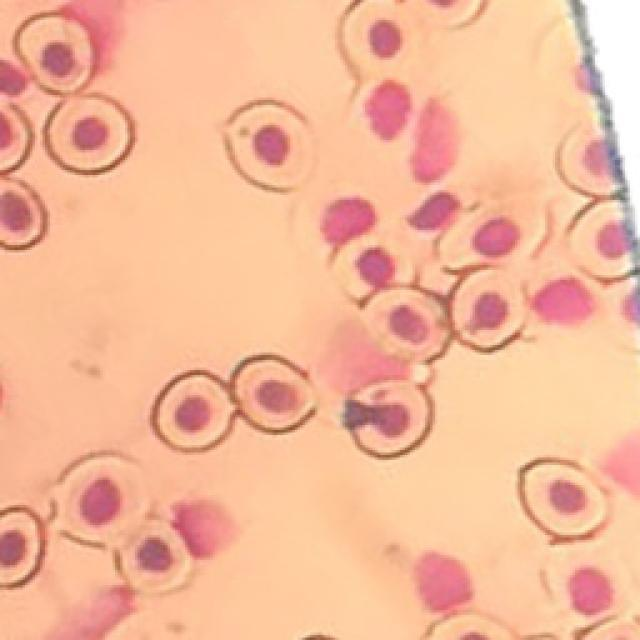RBC: (52, 452, 149, 546), (224, 100, 314, 191), (439, 201, 548, 271), (520, 459, 608, 539), (342, 380, 432, 457), (45, 95, 132, 174), (152, 371, 236, 451), (361, 288, 450, 361), (232, 355, 316, 432), (15, 14, 94, 94), (450, 269, 526, 351), (339, 0, 414, 79), (332, 234, 415, 301), (119, 520, 192, 594), (568, 200, 634, 281), (558, 122, 619, 197), (0, 505, 46, 587), (422, 612, 519, 640), (0, 100, 32, 173), (414, 0, 488, 28)
WBC: (411, 99, 458, 182), (171, 499, 236, 557), (414, 552, 471, 611), (532, 278, 594, 324), (321, 198, 376, 248), (365, 81, 411, 139), (569, 568, 612, 615), (409, 191, 460, 229), (0, 60, 28, 95)
